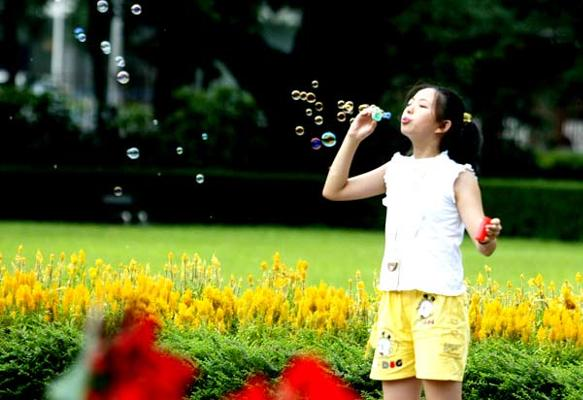person: (322, 84, 503, 400)
